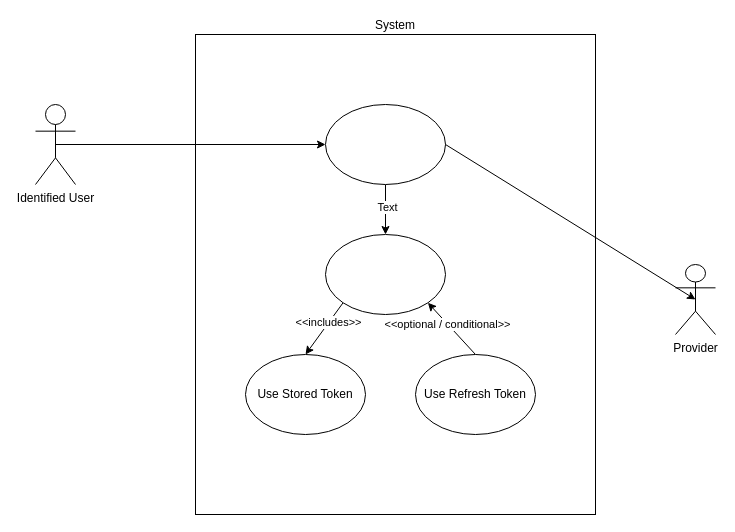
Image size: 735x532. Some labels were removed from this diagram. Each missing label, with the centre of its shape:
"Get Provider User Data" goes at point (385, 144).
"Get User Token" goes at point (385, 274).
